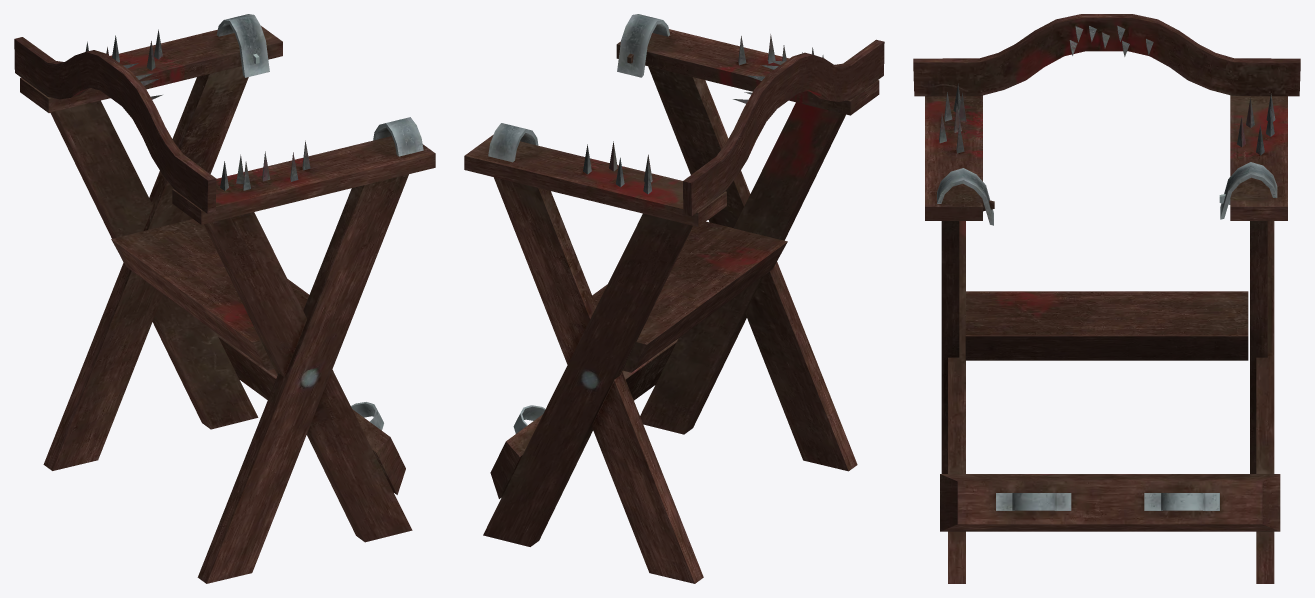
File: x_tortura_witch_s_chair.glb
3 views of the same model, side by side, from view 1: azimuth 30°, elevation 25°; view 2: azimuth 150°, elevation 25°; view 3: azimuth 270°, elevation 25° (orthographic).
Parts seen in each view (by area): view 1: chair_01_low__0; view 2: chair_01_low__0; view 3: chair_01_low__0.
Part boxes in pixels (box(x1,y1,x2,y2)): chair_01_low__0: box(14, 14, 435, 583); chair_01_low__0: box(464, 14, 884, 583); chair_01_low__0: box(913, 14, 1300, 583).
Size of the model in its own units: 0.7437 by 1.4 by 1.06.
Materials: 1 (1 with a texture image).
